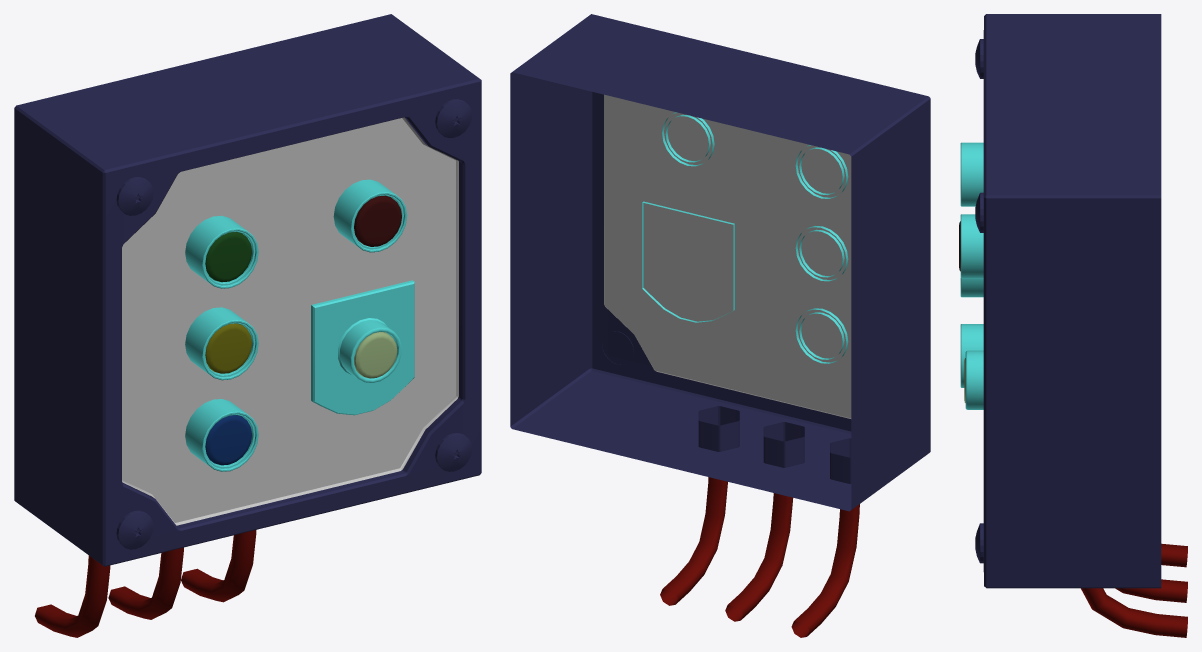
File: color_pussle5.fbx
3 renders of one model, left to right at view 1: azimuth 30°, elevation 25°; view 2: azimuth 150°, elevation 25°; view 3: azimuth 270°, elevation 25°, orthographic. The views are drawn at different scales.
Visible parts, largest first — view 1: pussle5; view 2: pussle5; view 3: pussle5.
Boxes of the visible parts, bbox=[...] form: pussle5: bbox=[14, 14, 481, 637]; pussle5: bbox=[510, 14, 930, 637]; pussle5: bbox=[959, 14, 1187, 637].
Bounding box in the file's own units: 5.23 × 7.09 × 2.76.
